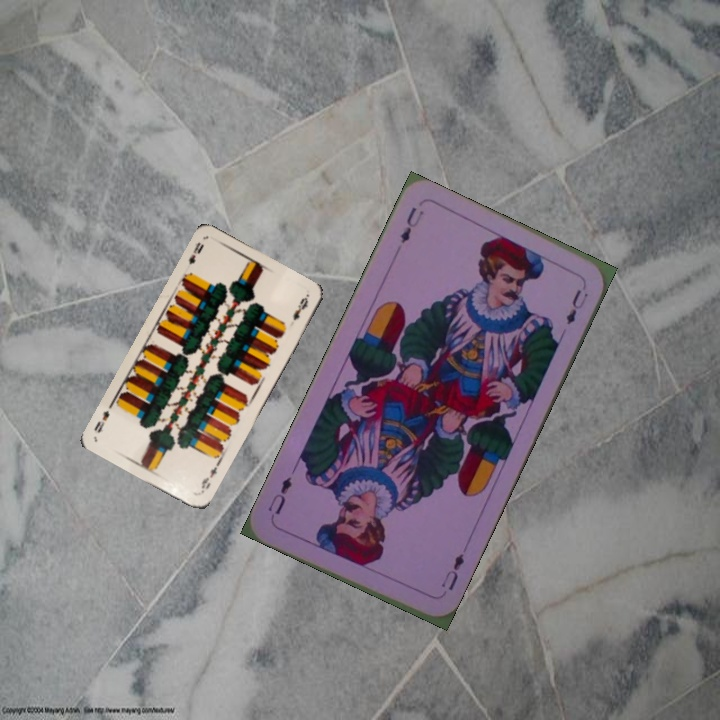E9: (197, 459, 222, 496), (184, 238, 207, 267)
EU: (436, 549, 467, 600), (396, 203, 427, 246)
